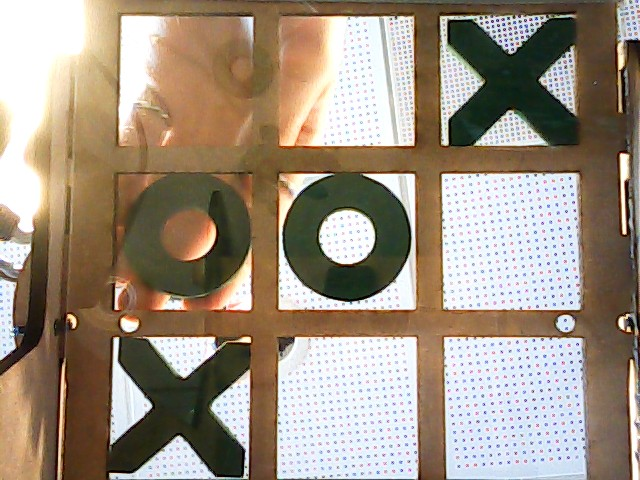O: (121, 170, 248, 297), (281, 174, 410, 293)
X: (115, 333, 251, 476), (446, 18, 580, 145)
